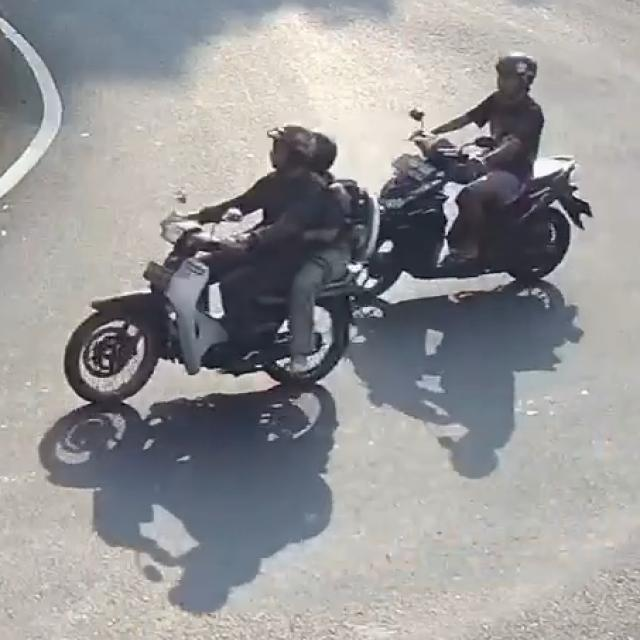helm: (292, 119, 346, 179), (488, 51, 544, 106), (263, 122, 317, 178)
motor: (57, 118, 386, 412), (347, 44, 600, 302)
spion: (204, 205, 258, 231), (455, 132, 508, 158), (166, 184, 198, 214), (404, 105, 428, 133)
